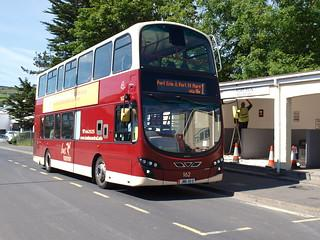bus: (36, 23, 225, 194)
